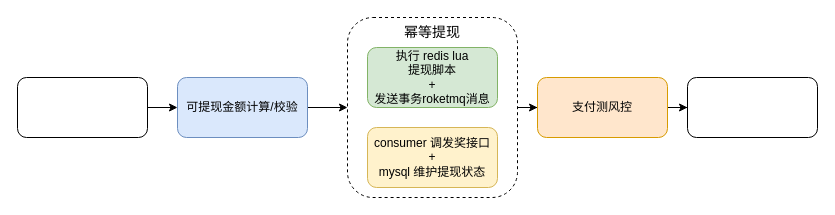
Some shapes in this 835 by 215 pixel diagram are drawn without their labels. Each missing label, with the centre of its shape:
"发起提现请求" goes at [82,107].
"用户春节钱包" goes at [752,107].
